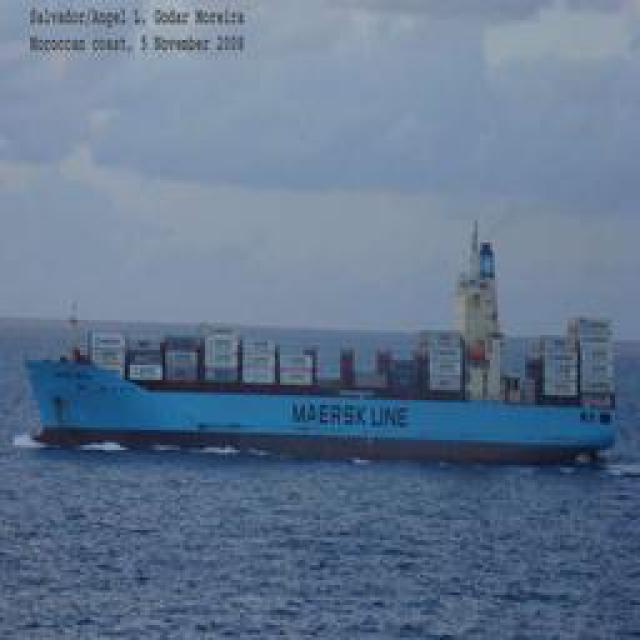Ship: (14, 313, 629, 461)
